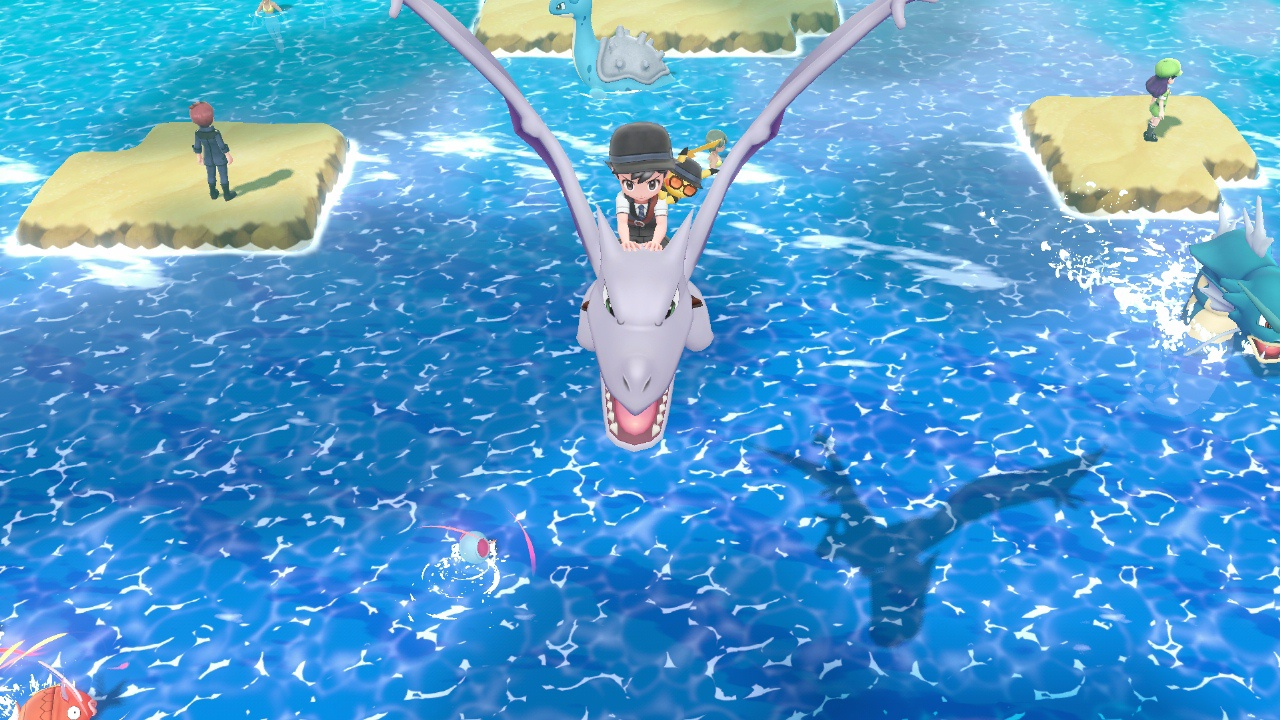Red: (1, 679, 97, 720)
